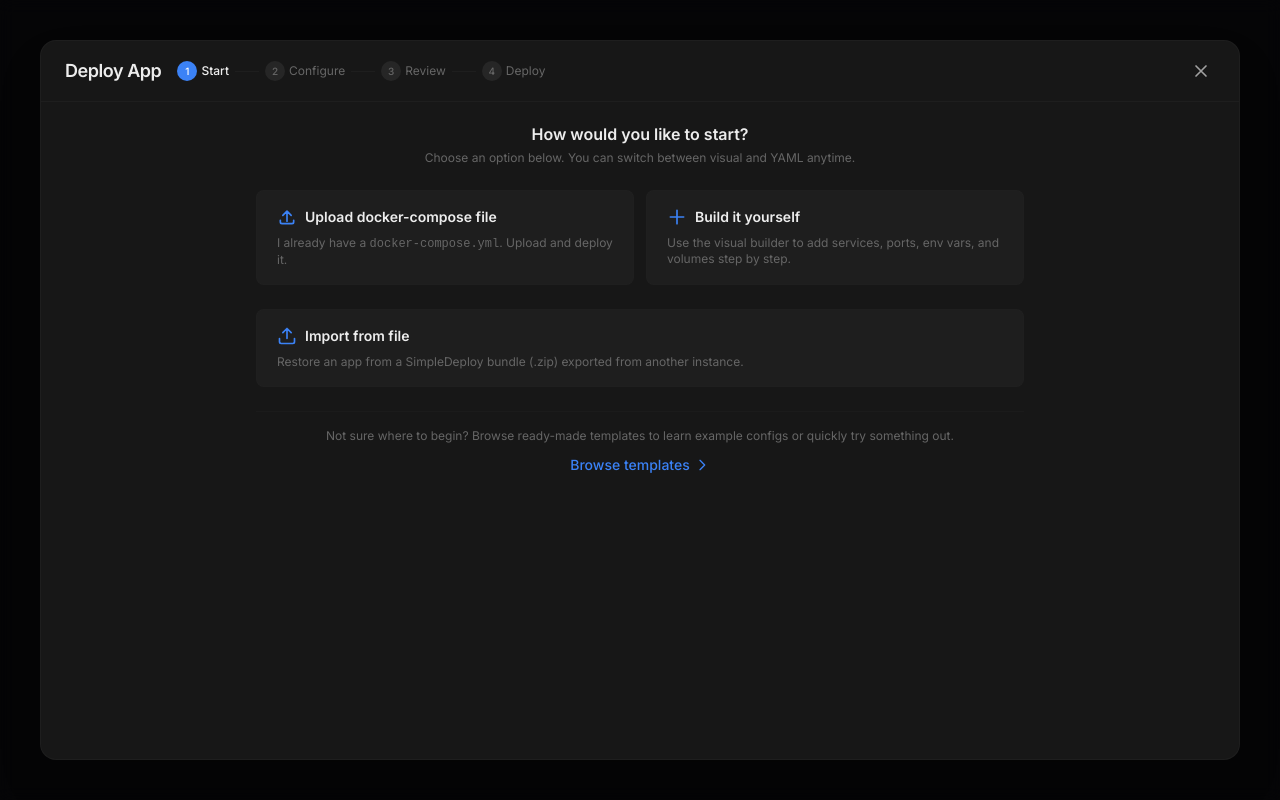
Test: DeployWizard › shows an inline error for app names compose cannot use
The width and height of the screenshot is (1280, 800).
Step 1. Click the text "Build it yourself" → {"x": 748, "y": 217}, box [695, 207, 800, 227]
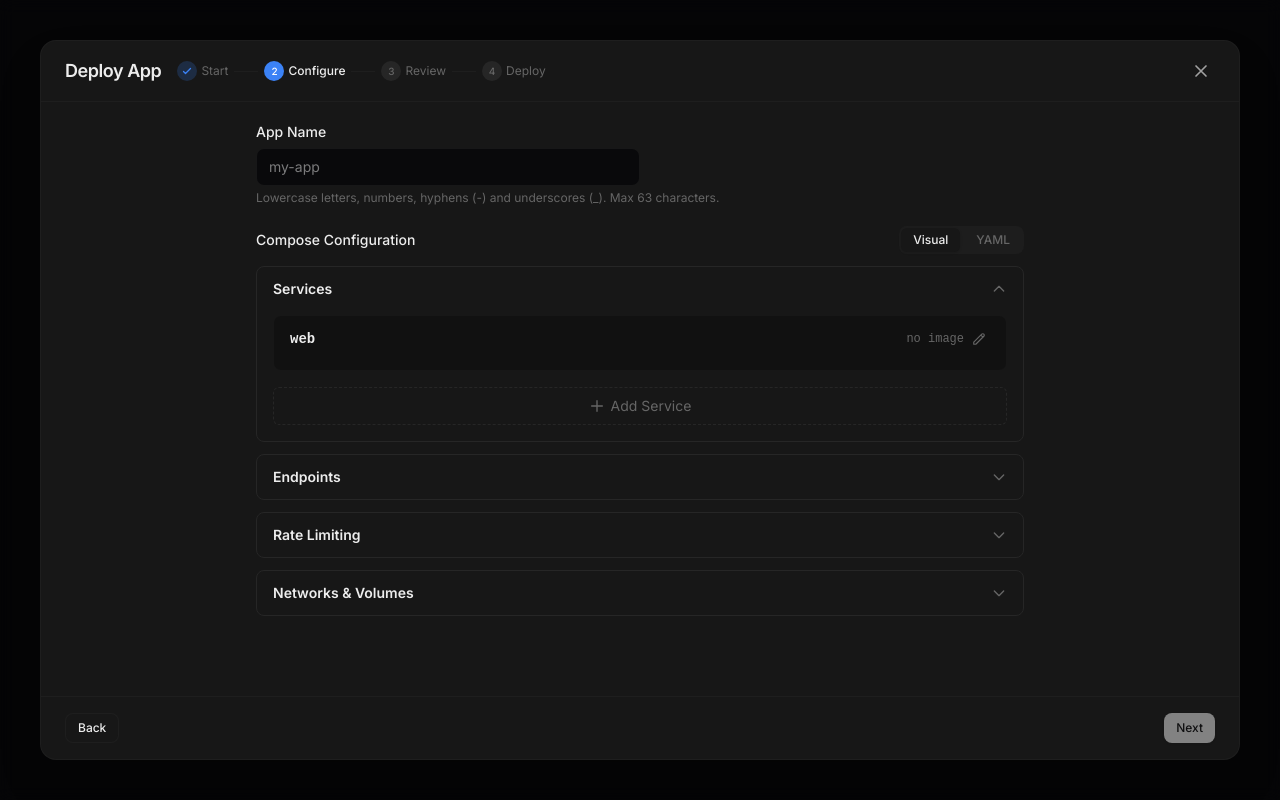
Step 2. Type "MyApp" into the field with placeholder "my-app" → {"x": 448, "y": 167}, box [256, 148, 640, 186]
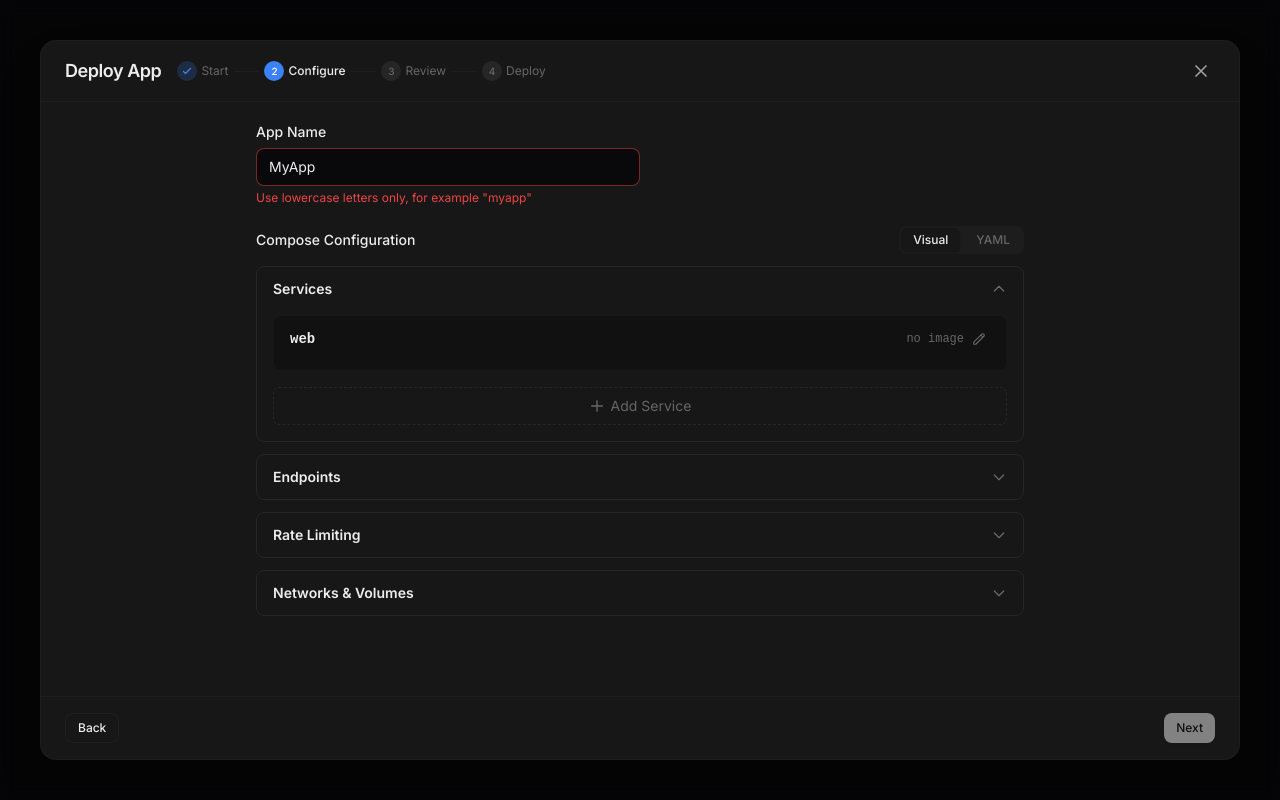
Result: the text "Use lowercase letters only, for example \"myapp\"" is shown at [256, 190, 532, 205]
Step 3. Replace the text in the field with placeholder "my-app" with "my.app" → {"x": 448, "y": 167}, box [256, 148, 640, 186]
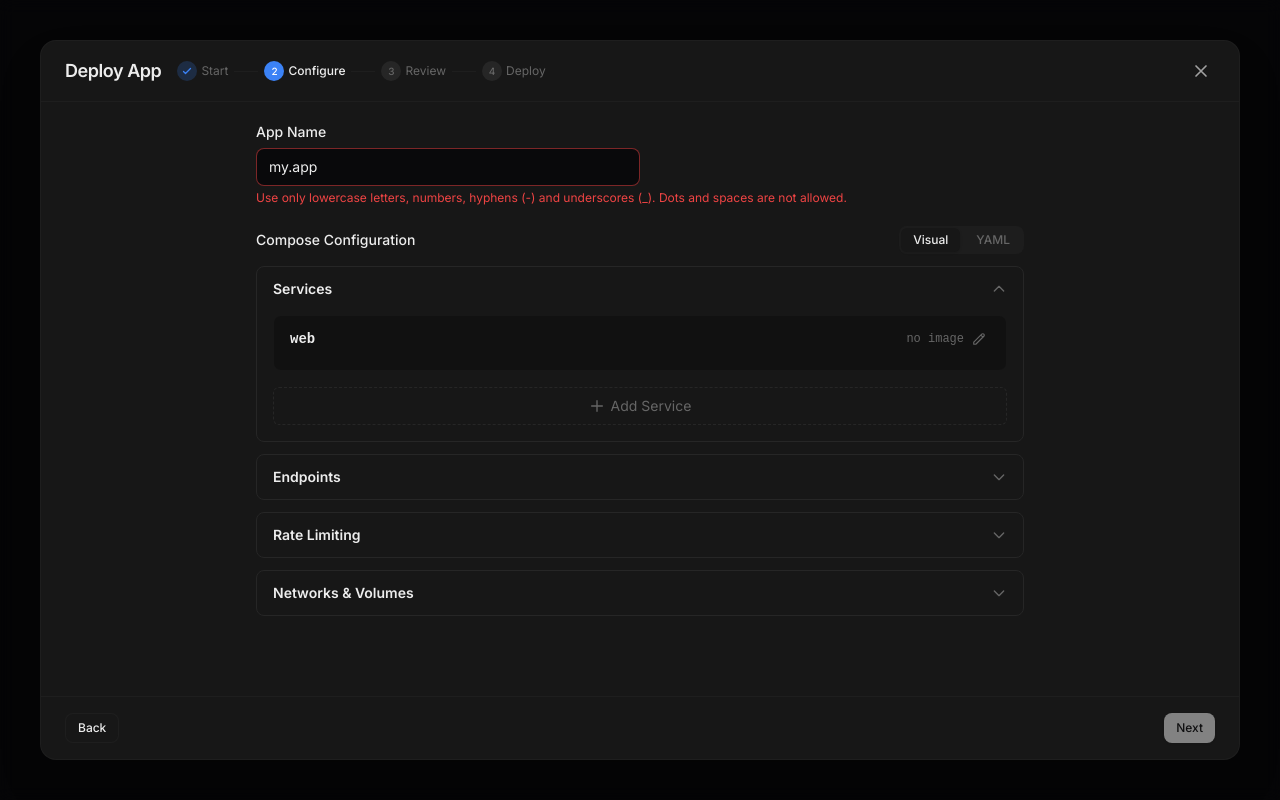
Result: the text "Dots and spaces are not allowed" is shown at [256, 190, 847, 205]
Step 4. Replace the text in the field with placeholder "my-app" with "my-app" → {"x": 448, "y": 167}, box [256, 148, 640, 186]
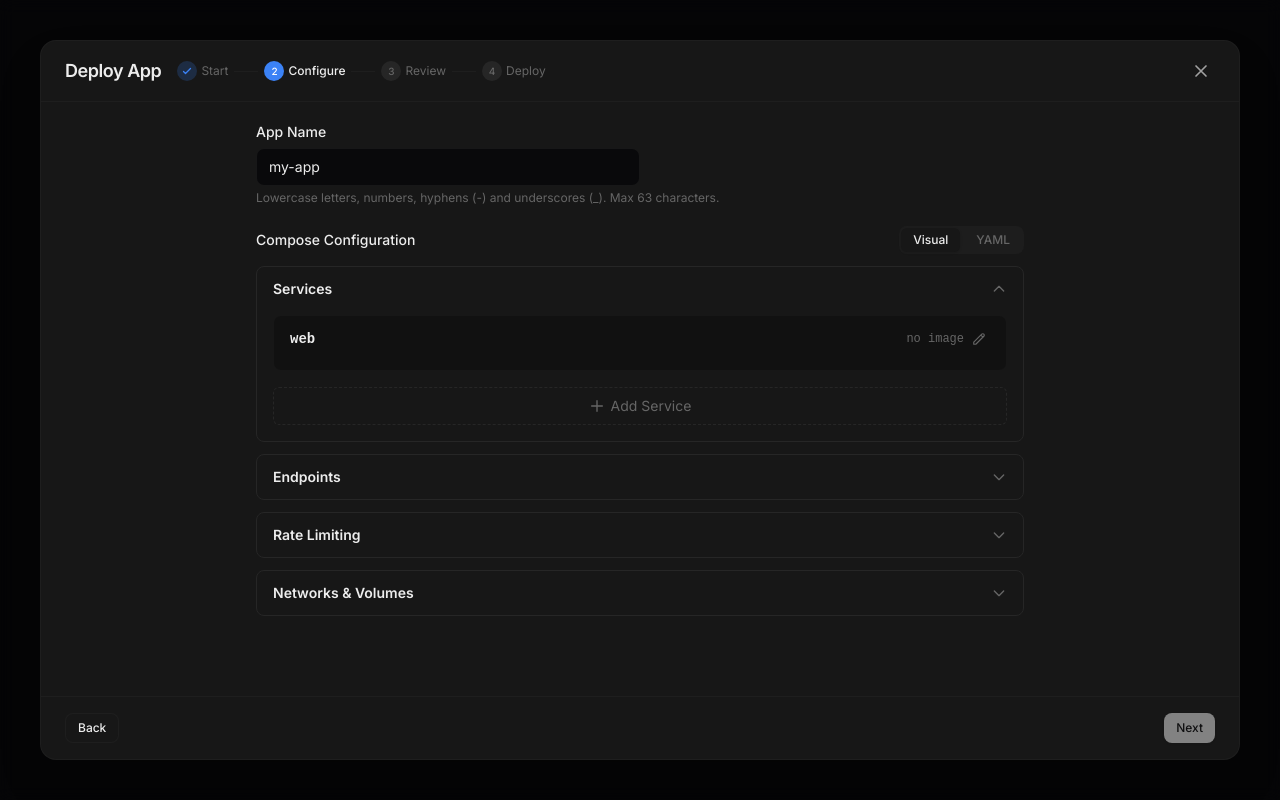
Result: the text "Lowercase letters, numbers, hyphens" is shown at [256, 190, 719, 205]
Result: the text "Dots and spaces are not allowed" is gone
